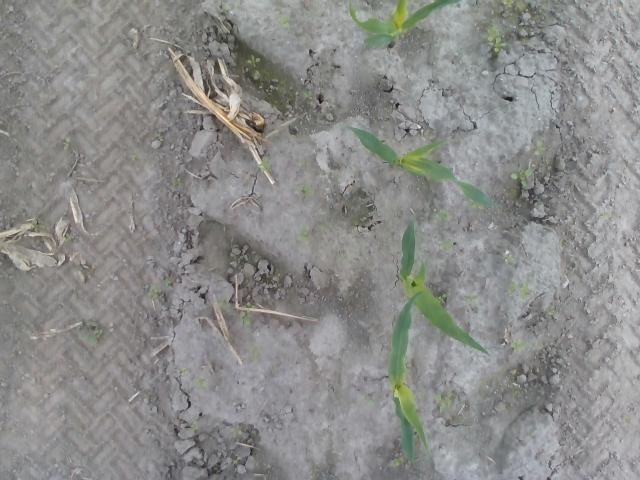Maize: (388, 217, 492, 463), (342, 123, 504, 207), (348, 0, 463, 47)
Weeds: (485, 25, 511, 54), (433, 391, 458, 418), (77, 319, 104, 344), (510, 163, 536, 187), (507, 279, 534, 302), (238, 302, 255, 329), (504, 1, 530, 16), (296, 227, 312, 246), (510, 340, 530, 354), (248, 341, 260, 364), (296, 186, 316, 199), (257, 156, 272, 173), (464, 294, 482, 308), (532, 140, 546, 157), (276, 14, 292, 28), (434, 209, 452, 221), (193, 374, 208, 388), (220, 1, 233, 17), (439, 238, 453, 252), (360, 394, 374, 408), (434, 292, 447, 306), (32, 220, 46, 233), (504, 252, 517, 266), (248, 54, 260, 68), (150, 130, 164, 142), (148, 284, 160, 298), (228, 426, 242, 438), (173, 176, 184, 190), (62, 234, 76, 244), (126, 153, 140, 163), (189, 422, 199, 435), (392, 458, 407, 466), (218, 300, 230, 310), (62, 136, 70, 150), (303, 92, 314, 102), (177, 368, 190, 376), (548, 306, 558, 316), (230, 457, 240, 466)
